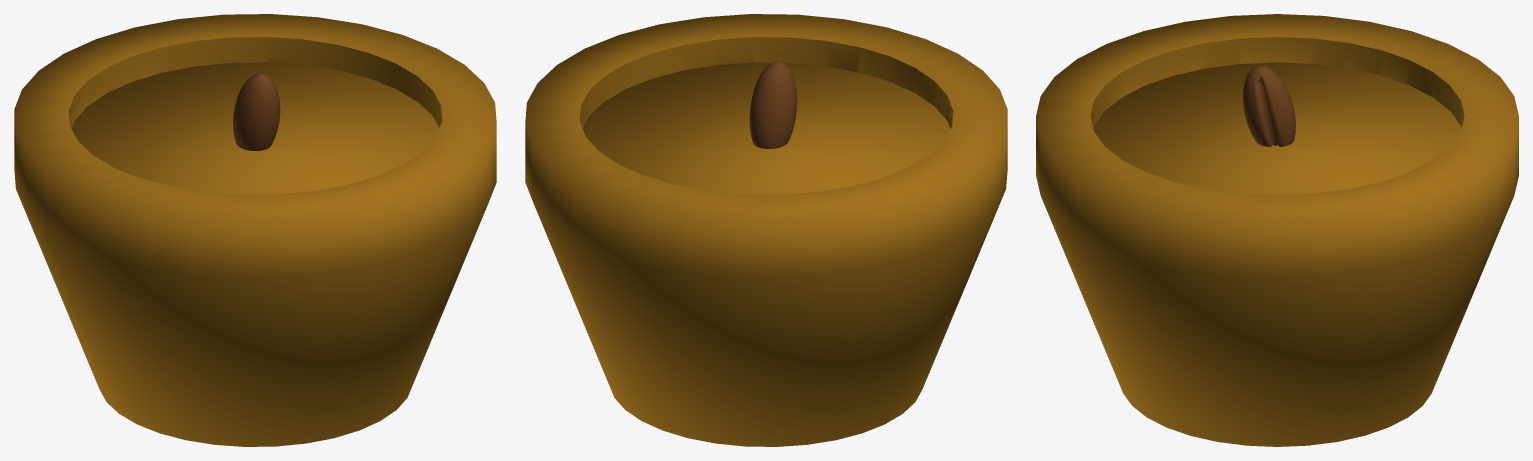
The model's file is flor animada.fbx.
3 views of the same model, side by side, from view 1: azimuth 30°, elevation 25°; view 2: azimuth 150°, elevation 25°; view 3: azimuth 270°, elevation 25° (orthographic).
Parts seen in each view (by area): view 1: FLORPENSAMIENTO.139, SEMILLA 1; view 2: FLORPENSAMIENTO.139, SEMILLA 1; view 3: FLORPENSAMIENTO.139, SEMILLA 1.
Boxes of the visible parts, bbox=[...] form: FLORPENSAMIENTO.139: bbox=[14, 14, 496, 446]; SEMILLA 1: bbox=[233, 73, 280, 150]; FLORPENSAMIENTO.139: bbox=[525, 14, 1007, 446]; SEMILLA 1: bbox=[749, 61, 797, 148]; FLORPENSAMIENTO.139: bbox=[1036, 14, 1518, 446]; SEMILLA 1: bbox=[1243, 65, 1295, 147].
Size of the model in its own units: 87.14 by 62.2 by 87.14.
